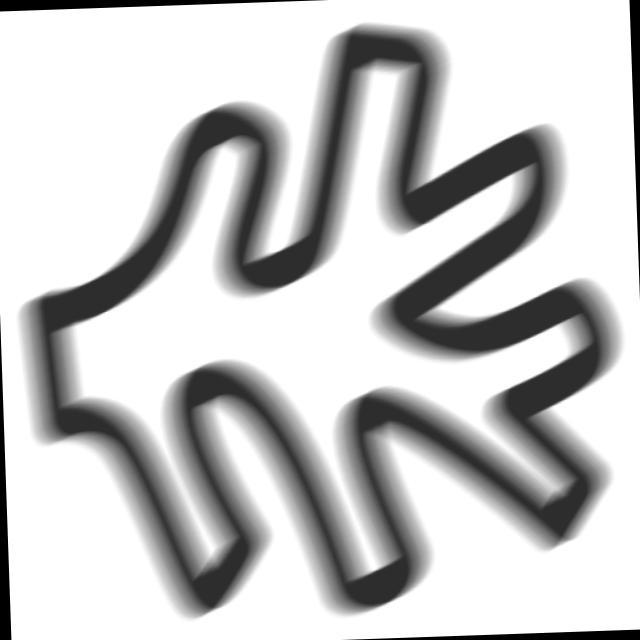coral: (1, 6, 640, 640)
